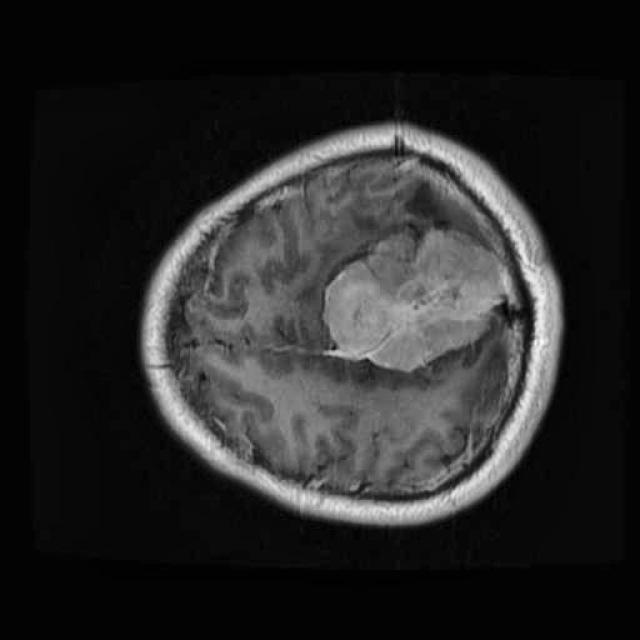Tumor: (316, 213, 521, 386)
